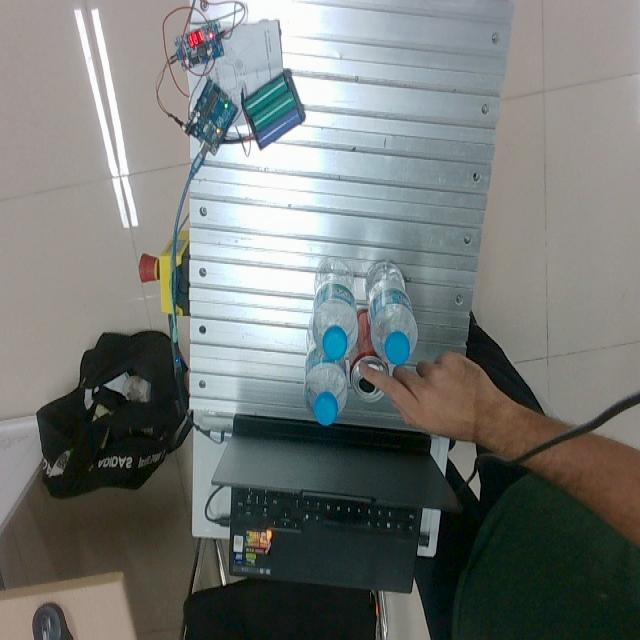coca: (349, 308, 390, 403)
lavie: (365, 261, 417, 367), (311, 257, 357, 363), (303, 323, 348, 425)
